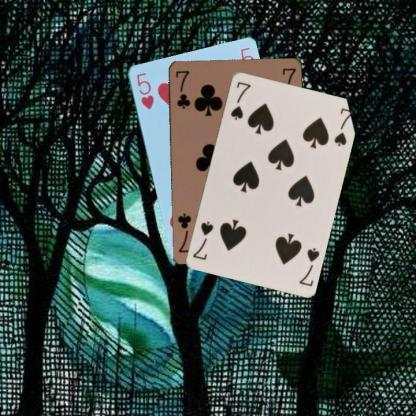5h: (133, 70, 155, 110)
7c: (173, 67, 191, 110)
7s: (228, 78, 252, 122), (296, 244, 320, 288)
